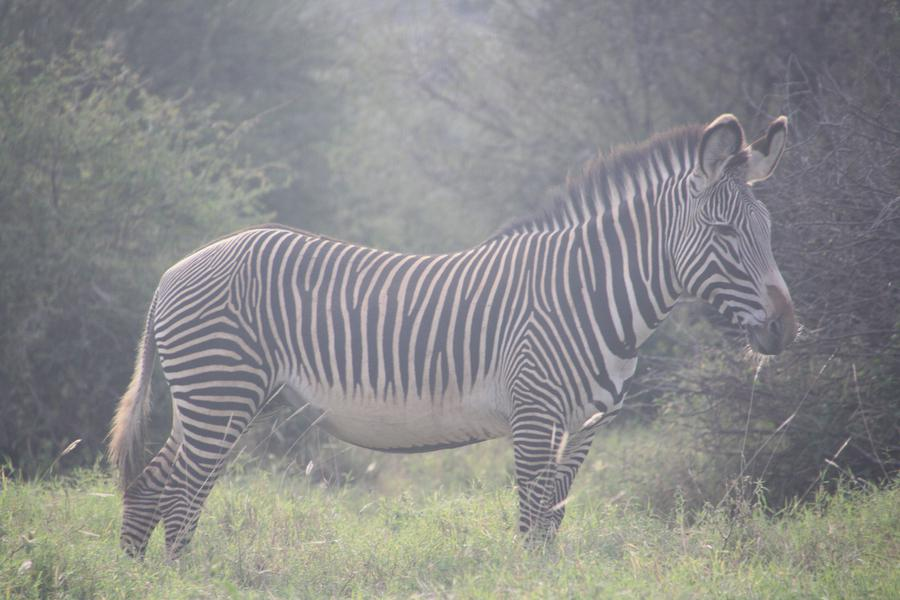zebra_grevys: (147, 203, 589, 425)
